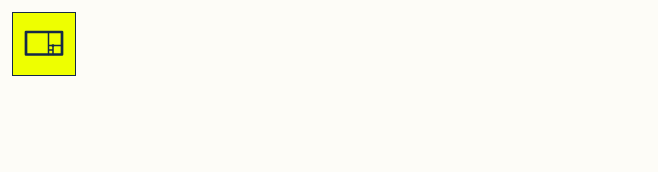
opens the matematica-aplicada-economia-gestao discovery with the keyboard and closes it on click
Press Tab
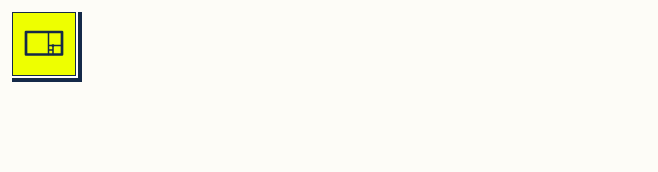
Press Enter
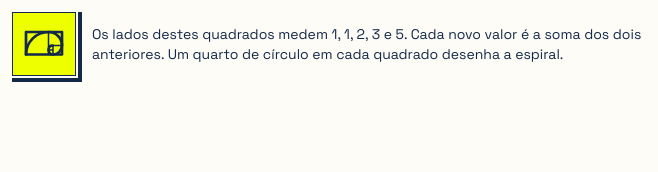
Expected: the text "espiral" is shown, [92,25,641,63]
Click the button named "Descobrir o símbolo de Matemática": (44, 44) [12,12,76,76]
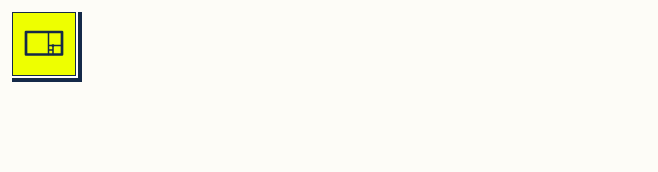
Expected: the text "espiral" is gone
